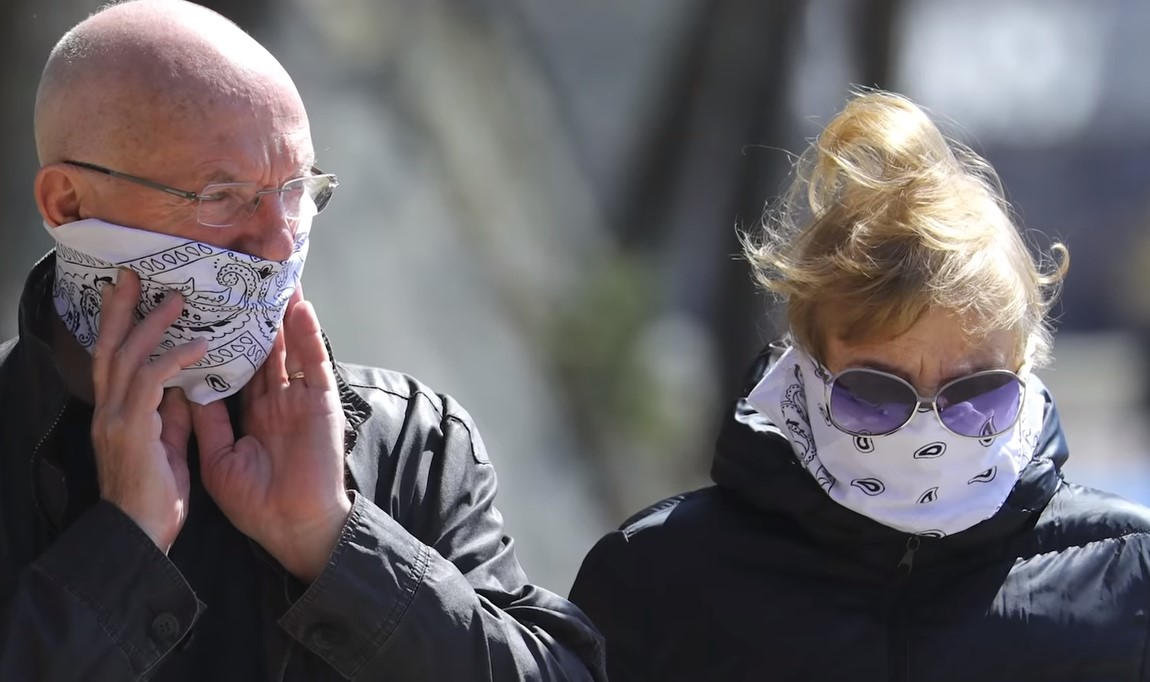face_with_mask: (791, 211, 1044, 536)
